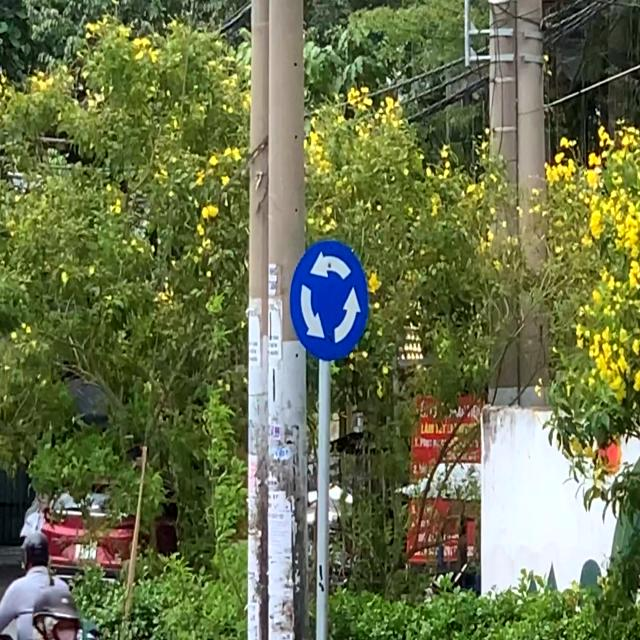R.303: (288, 238, 369, 362)
